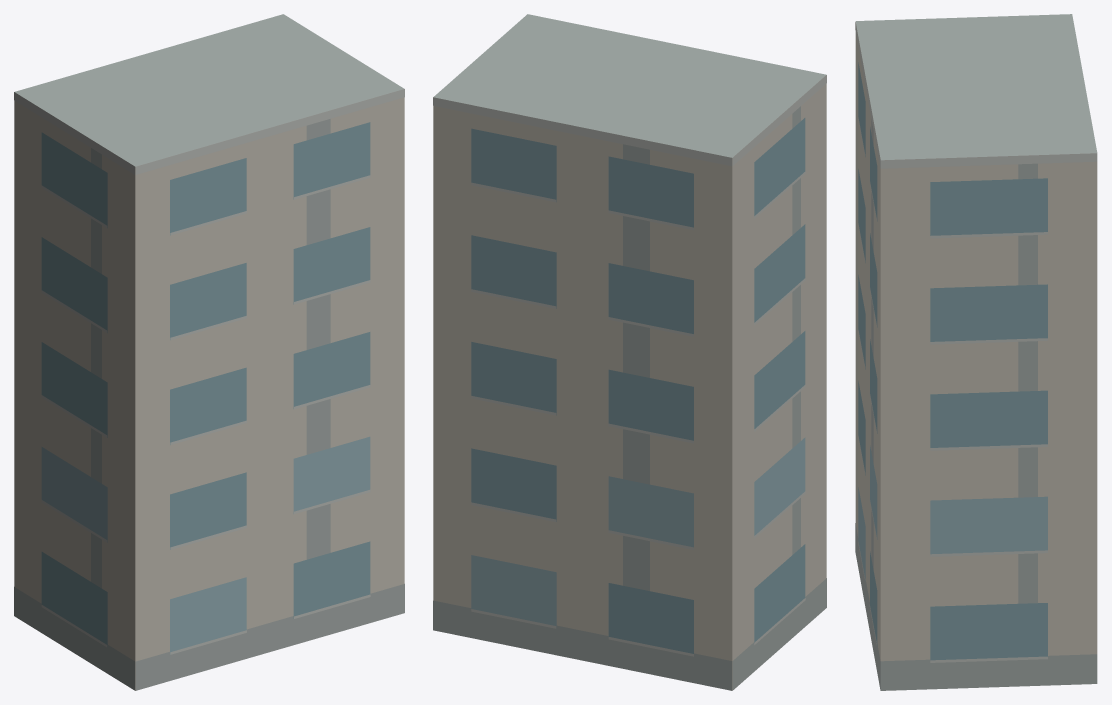
The model's file is residential-87a1c3cf-1cb8-4a1c-a666-cbe3b894a290.glb.
3 views of the same model, side by side, from view 1: azimuth 30°, elevation 25°; view 2: azimuth 150°, elevation 25°; view 3: azimuth 270°, elevation 25° (orthographic).
Visible parts, largest first — view 1: residential-87a1c3cf-1cb8-4a1c-a666-cbe3b894a290.tmp; view 2: residential-87a1c3cf-1cb8-4a1c-a666-cbe3b894a290.tmp; view 3: residential-87a1c3cf-1cb8-4a1c-a666-cbe3b894a290.tmp.
Boxes of the visible parts, <box> form: residential-87a1c3cf-1cb8-4a1c-a666-cbe3b894a290.tmp: <box>14,14,404,690</box>; residential-87a1c3cf-1cb8-4a1c-a666-cbe3b894a290.tmp: <box>433,14,826,690</box>; residential-87a1c3cf-1cb8-4a1c-a666-cbe3b894a290.tmp: <box>855,14,1097,690</box>.
Bounding box in the file's own units: 9.02 × 15.25 × 6.31.
